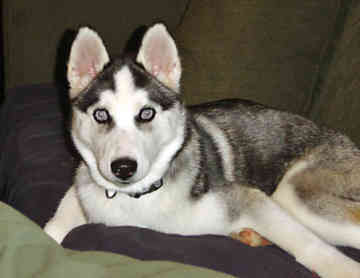dog: (44, 22, 359, 277)
